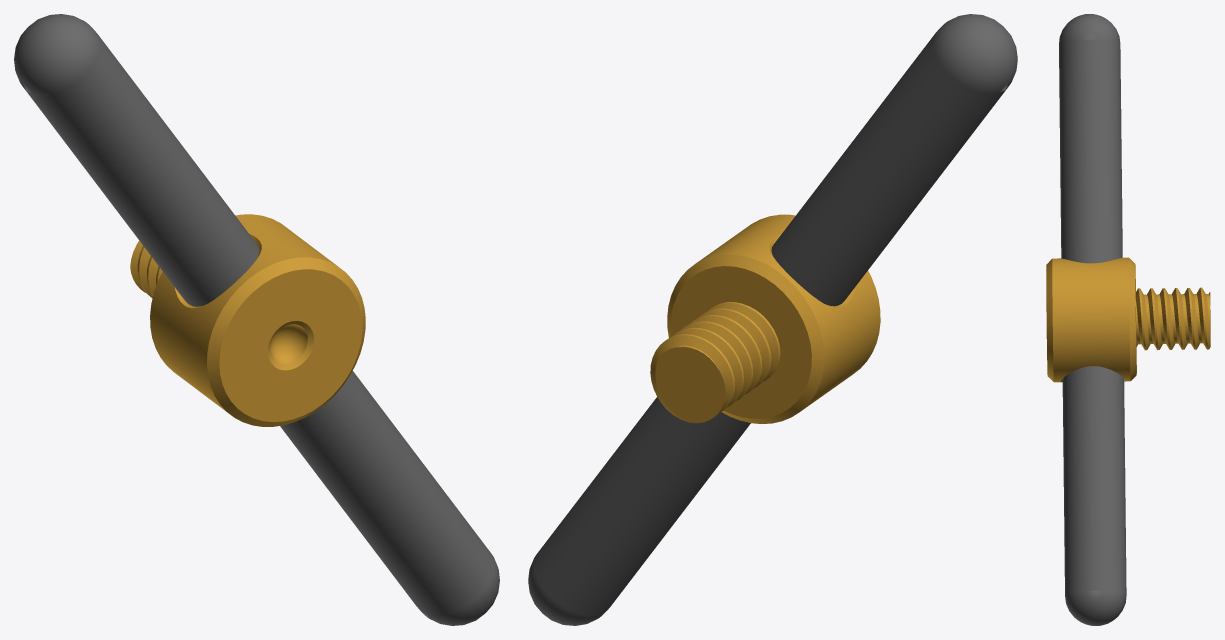
The model's file is knob67671.glb.
3 views of the same model, side by side, from view 1: azimuth 30°, elevation 25°; view 2: azimuth 150°, elevation 25°; view 3: azimuth 270°, elevation 25° (orthographic). The views are drawn at different scales.
Parts seen in each view (by area): view 1: JEB13888A62kjp053; view 2: JEB13888A62kjp053; view 3: JEB13888A62kjp053.
Boxes of the visible parts, bbox=[...] form: JEB13888A62kjp053: bbox=[14, 14, 499, 625]; JEB13888A62kjp053: bbox=[528, 14, 1017, 625]; JEB13888A62kjp053: bbox=[1046, 14, 1210, 625].
Size of the model in its own units: 0.0382 by 0.0538 by 0.0169.
